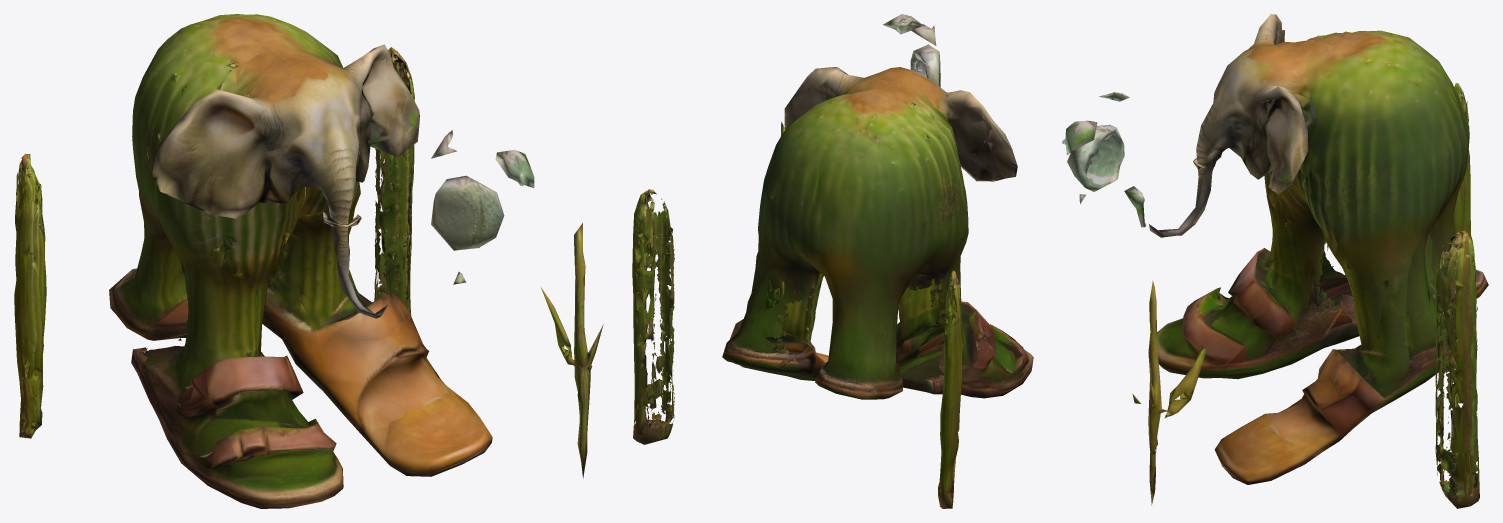
3 renders of one model, left to right at view 1: azimuth 30°, elevation 25°; view 2: azimuth 150°, elevation 25°; view 3: azimuth 270°, elevation 25°, orthographic. The views are drawn at different scales.
Bounding box in the file's own units: 1.91 × 1.88 × 1.94.
1 material, 1 textured.
